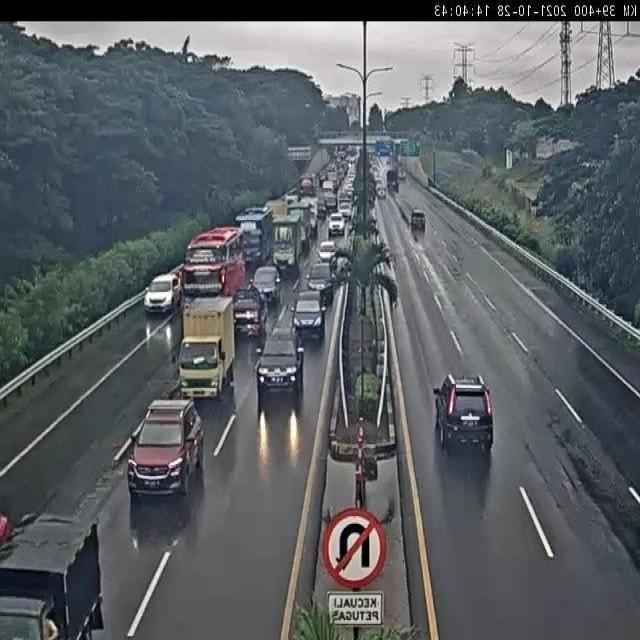Bus: (180, 222, 244, 308), (226, 199, 273, 267), (270, 206, 304, 272)
Car: (120, 404, 198, 503), (421, 364, 504, 454), (244, 330, 313, 405), (143, 265, 184, 317), (229, 287, 267, 330), (292, 292, 326, 338), (307, 265, 336, 302), (312, 239, 342, 271), (406, 203, 426, 234), (327, 213, 348, 238)
Truck: (0, 502, 97, 640), (177, 290, 231, 403)
